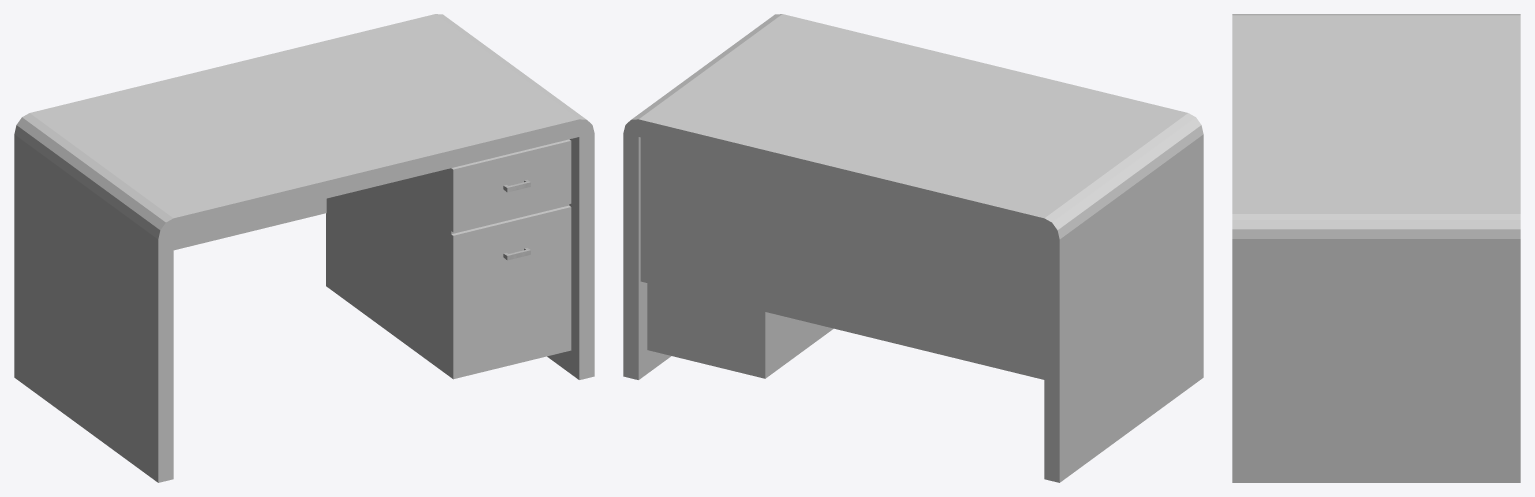
The model's file is Work_Table.fbx.
3 renders of one model, left to right at view 1: azimuth 30°, elevation 25°; view 2: azimuth 150°, elevation 25°; view 3: azimuth 270°, elevation 25°, orthographic.
Visible parts, largest first — view 1: Cube.006, Cube.008, Cube.007; view 2: Cube.006, Cube.007, Cube.008; view 3: Cube.006.
Boxes of the visible parts, x1=… form: Cube.006: x1=14, y1=14, x2=594, y2=482; Cube.008: x1=326, y1=139, x2=571, y2=379; Cube.007: x1=173, y1=198, x2=326, y2=250; Cube.006: x1=623, y1=14, x2=1203, y2=482; Cube.007: x1=640, y1=137, x2=1044, y2=379; Cube.008: x1=647, y1=283, x2=833, y2=378; Cube.006: x1=1232, y1=14, x2=1520, y2=482.
Bounding box in the file's own units: 175 × 100 × 100.
1 material, 1 textured.
